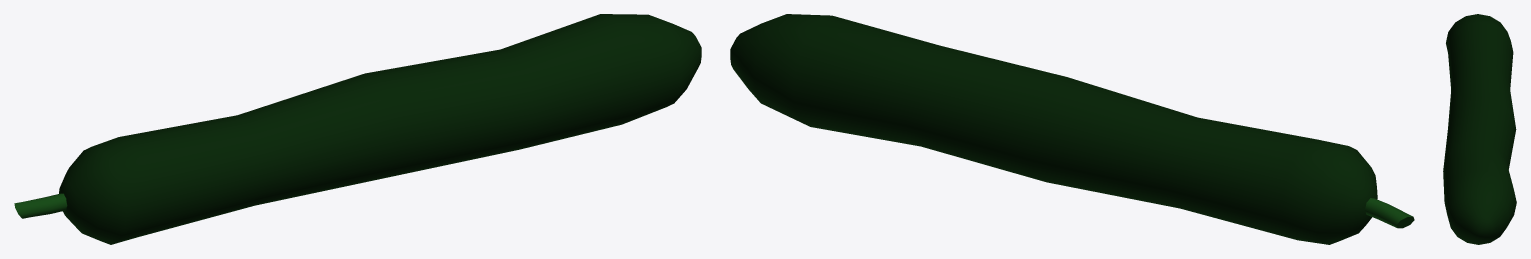
Rendered from concombre.FBX.
3 views of the same model, side by side, from view 1: azimuth 30°, elevation 25°; view 2: azimuth 150°, elevation 25°; view 3: azimuth 270°, elevation 25° (orthographic). The views are drawn at different scales.
Visible parts, largest first — view 1: concombre, queueConcombre; view 2: concombre, queueConcombre; view 3: concombre.
Boxes of the visible parts, box(x1,y1,x2,y2) form: concombre: box(59, 14, 701, 244); queueConcombre: box(14, 193, 67, 218); concombre: box(730, 14, 1377, 244); queueConcombre: box(1365, 198, 1414, 228); concombre: box(1443, 14, 1516, 244).
Size of the model in its own units: 20.46 by 2.94 by 3.
